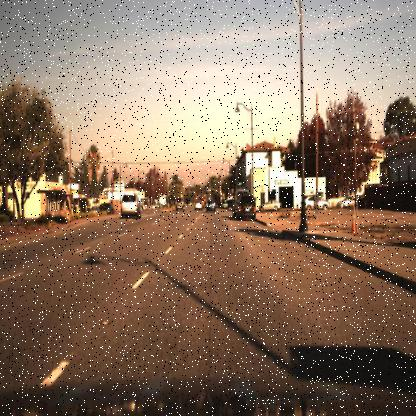car: (116, 188, 146, 226), (299, 193, 332, 213), (238, 191, 258, 223), (228, 187, 248, 218), (260, 193, 282, 216), (299, 193, 330, 208), (333, 192, 358, 210), (97, 198, 118, 219), (260, 197, 282, 215), (201, 195, 218, 217), (230, 190, 240, 224), (174, 193, 186, 218), (193, 197, 205, 213)
